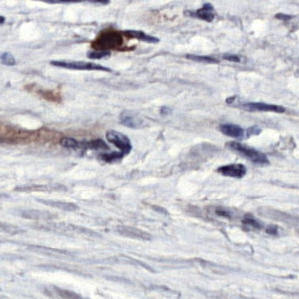Lymphocyte: (90, 28, 137, 53)
